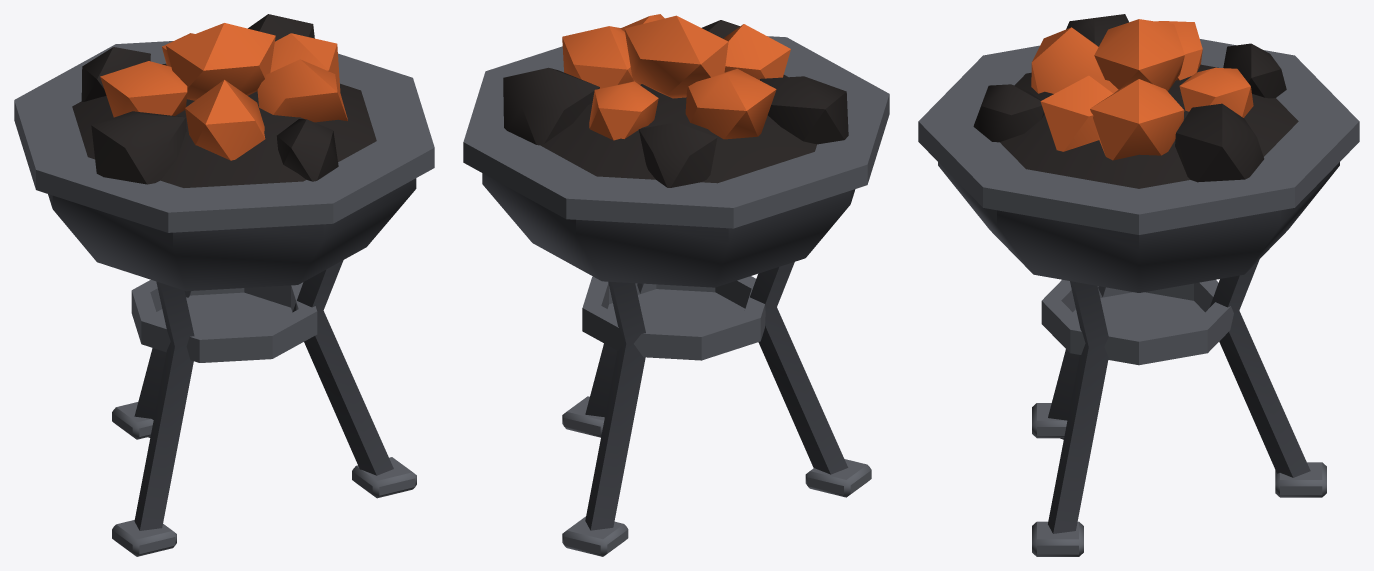
File: ash_brazier.fbx
The picture shows the model from 3 angles, left to right: view 1: azimuth 30°, elevation 25°; view 2: azimuth 150°, elevation 25°; view 3: azimuth 270°, elevation 25°; orthographic projection.
Parts seen in each view (by area): view 1: ash_brazier; view 2: ash_brazier; view 3: ash_brazier.
Boxes of the visible parts, left/top/right/bottom form: ash_brazier: left=14, top=14, right=434, bottom=556; ash_brazier: left=463, top=14, right=889, bottom=556; ash_brazier: left=918, top=14, right=1359, bottom=556.
Bounding box in the file's own units: 1.36 × 1.62 × 1.36.
